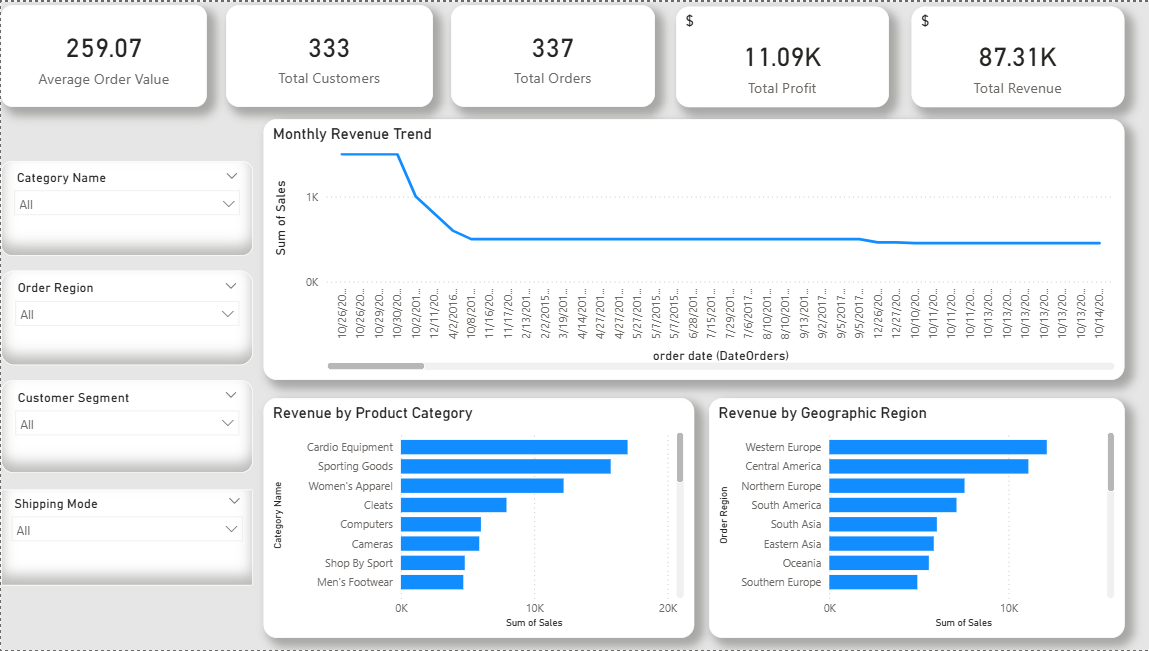

The page's visual inventory and layout, read from the dashboard file:
{"tool":"powerbi","page":{"name":"Executive Overview","canvas":[1280,720],"ordinal":0},"visuals":[{"type":"card","fields":{"Values":["supply_chain_data.Average Order Value"]},"box":[0,3.3,228.3,113.3],"z":0},{"type":"card","title":"$","fields":{"Values":["supply_chain_data.Total Profit"]},"box":[750,5,236.7,111.7],"z":1000},{"type":"card","fields":{"Values":["supply_chain_data.Total Customers"]},"box":[250,3.3,230,113.3],"z":2000},{"type":"card","title":"$","fields":{"Values":["supply_chain_data.Total Revenue"]},"box":[1011.7,5,236.7,111.7],"z":3000},{"type":"card","fields":{"Values":["supply_chain_data.Total Orders"]},"box":[500,3.3,226.7,113.3],"z":4000},{"type":"clusteredBarChart","title":"Revenue by Product Category","fields":{"Category":["supply_chain_data.Category Name"],"Y":["Sum(supply_chain_data.Sales)"]},"box":[291.7,440,478.3,266.7],"z":5000},{"type":"clusteredBarChart","title":"Revenue by Geographic Region","fields":{"Category":["supply_chain_data.Order Region"],"Y":["Sum(supply_chain_data.Sales)"]},"box":[786.7,440,461.7,266.7],"z":6000},{"type":"lineChart","title":"Monthly Revenue Trend","fields":{"Category":["supply_chain_data.order date (DateOrders)"],"Y":["Sum(supply_chain_data.Sales)"]},"box":[291.7,130,956.7,290],"z":7000},{"type":"slicer","fields":{"Values":["supply_chain_data.Category Name"]},"box":[0,176.7,280,105],"z":8000},{"type":"slicer","fields":{"Values":["supply_chain_data.Order Region"]},"box":[0,298.3,280,105],"z":9000},{"type":"slicer","fields":{"Values":["supply_chain_data.Customer Segment"]},"box":[0,420,280,103.3],"z":10000},{"type":"slicer","fields":{"Values":["supply_chain_data.Shipping Mode"]},"box":[0,541.7,280,106.7],"z":11000}]}

Visuals, with their boxes in screenshot pixels (x1, y1, x2, y2), scaled from the page's 1280x720 canvas onto the 1149x651 screenshot:
card - supply_chain_data.Average Order Value: [left=0, top=3, right=205, bottom=105]
"$" card: [left=673, top=5, right=886, bottom=106]
card - supply_chain_data.Total Customers: [left=224, top=3, right=431, bottom=105]
"$" card: [left=908, top=5, right=1121, bottom=106]
card - supply_chain_data.Total Orders: [left=449, top=3, right=652, bottom=105]
"Revenue by Product Category" clusteredBarChart: [left=262, top=398, right=691, bottom=639]
"Revenue by Geographic Region" clusteredBarChart: [left=706, top=398, right=1121, bottom=639]
"Monthly Revenue Trend" lineChart: [left=262, top=118, right=1121, bottom=380]
slicer - supply_chain_data.Category Name: [left=0, top=160, right=251, bottom=255]
slicer - supply_chain_data.Order Region: [left=0, top=270, right=251, bottom=365]
slicer - supply_chain_data.Customer Segment: [left=0, top=380, right=251, bottom=473]
slicer - supply_chain_data.Shipping Mode: [left=0, top=490, right=251, bottom=586]
